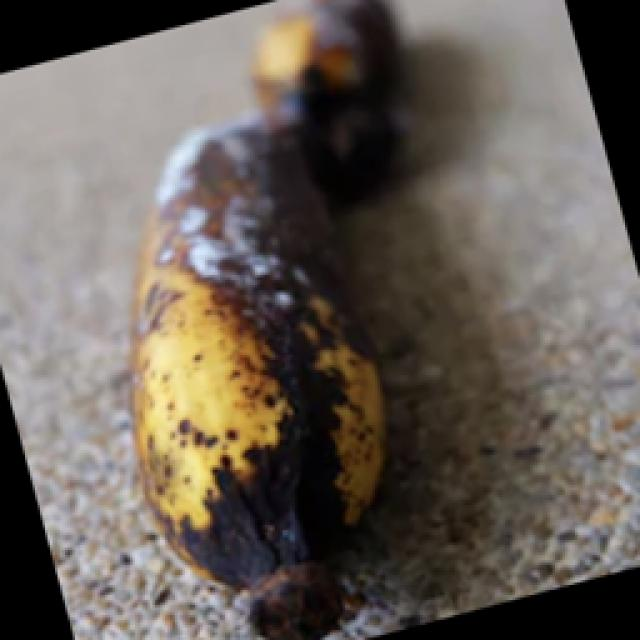Rotten_Banana: (89, 85, 423, 638)
